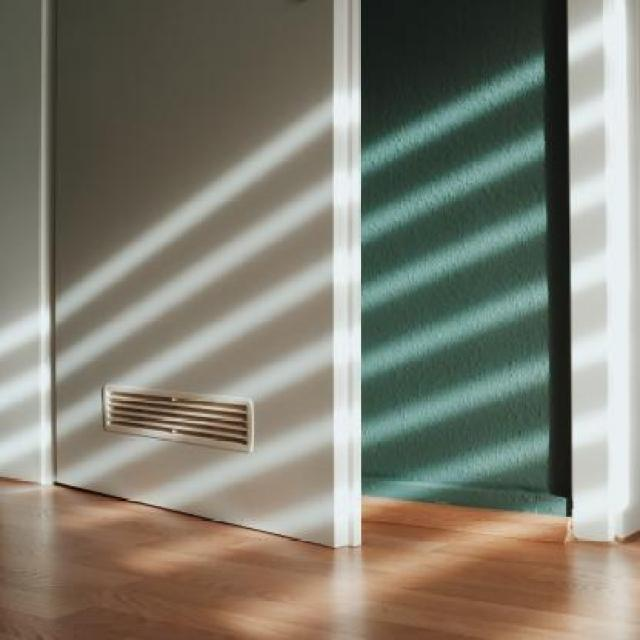Floor: (1, 477, 638, 640)
